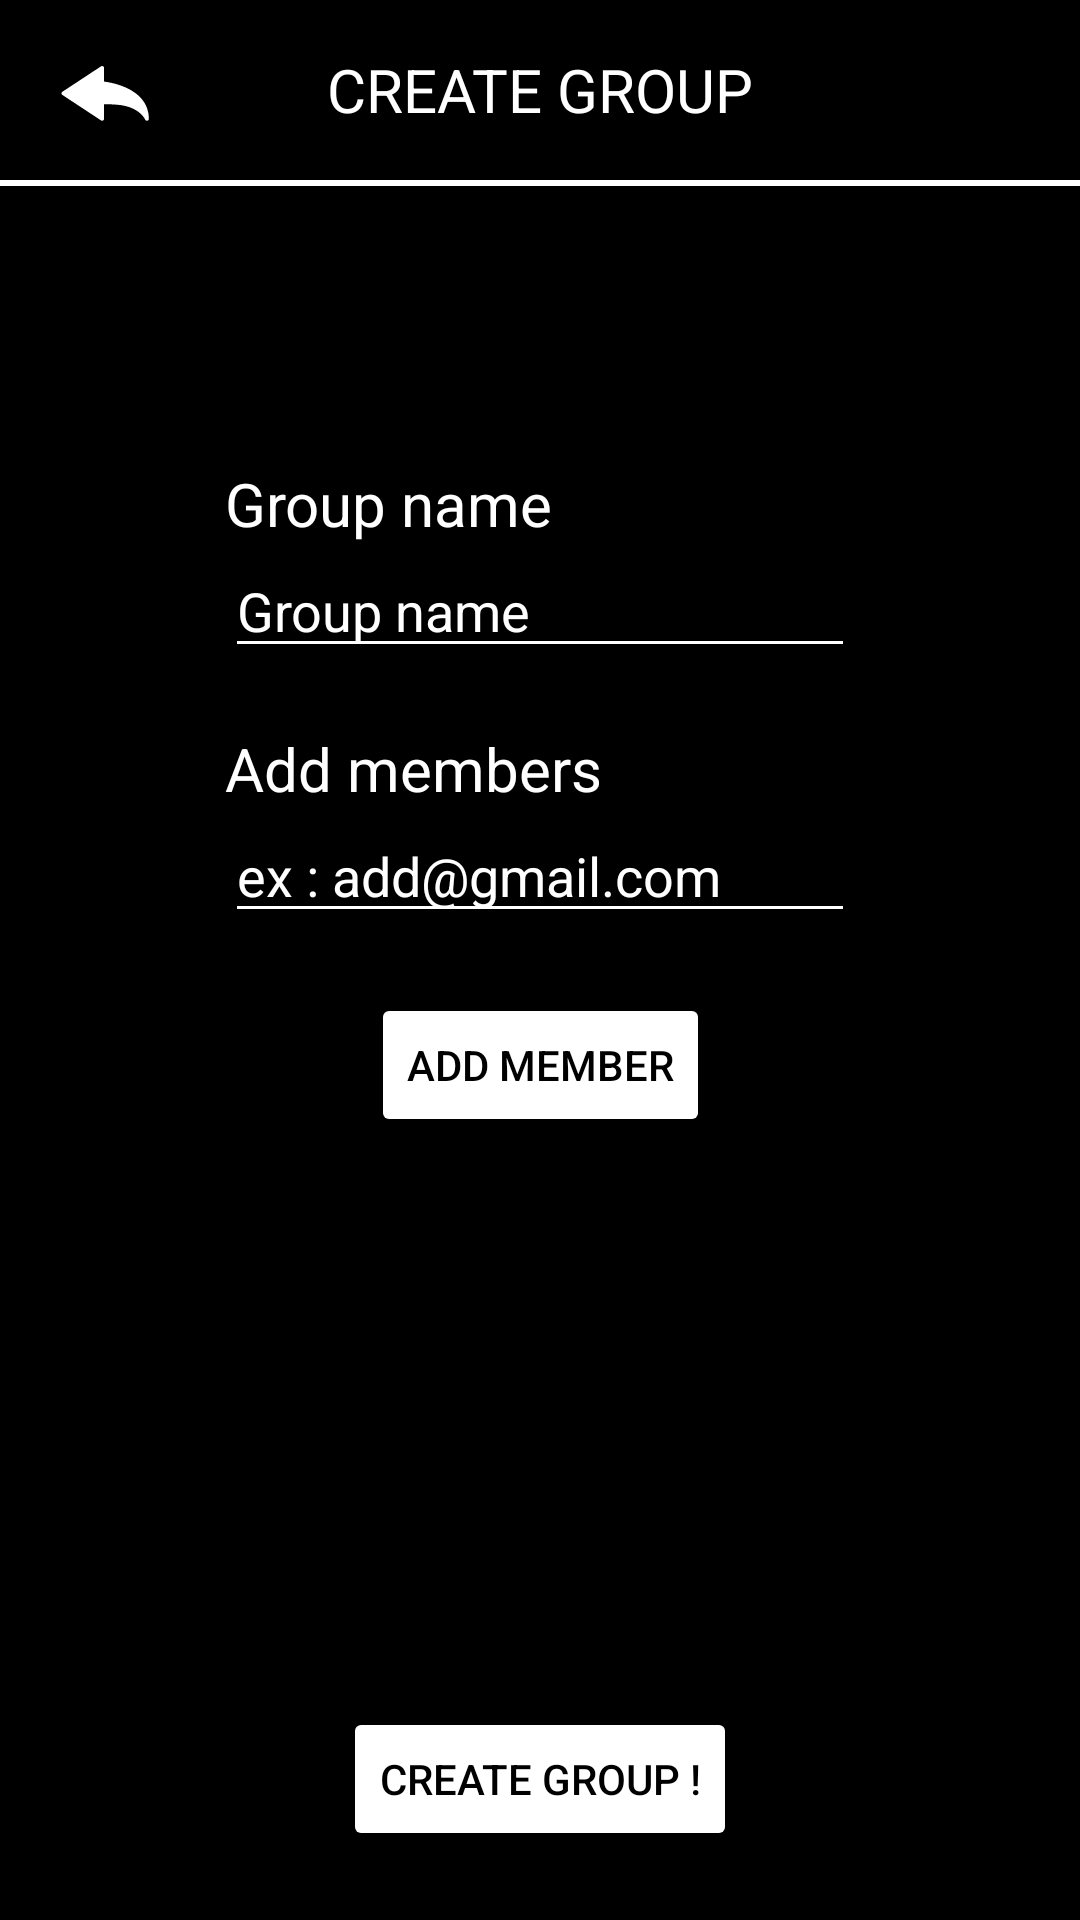

Point at icon controls on the screen. Image size 1080w x 1920h, points as (x=x, y=y).
back arrow: (x=105, y=93)
